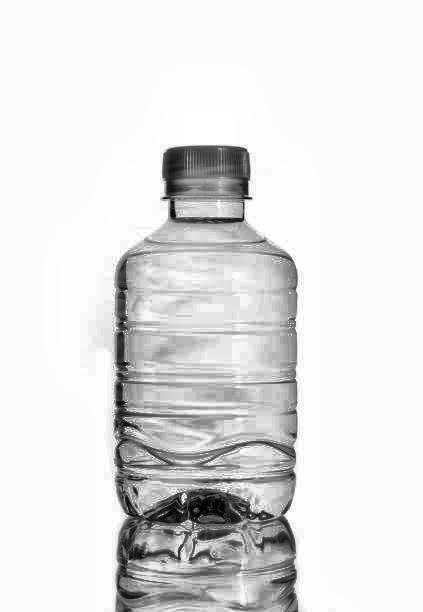waterbottle: (74, 91, 339, 532)
